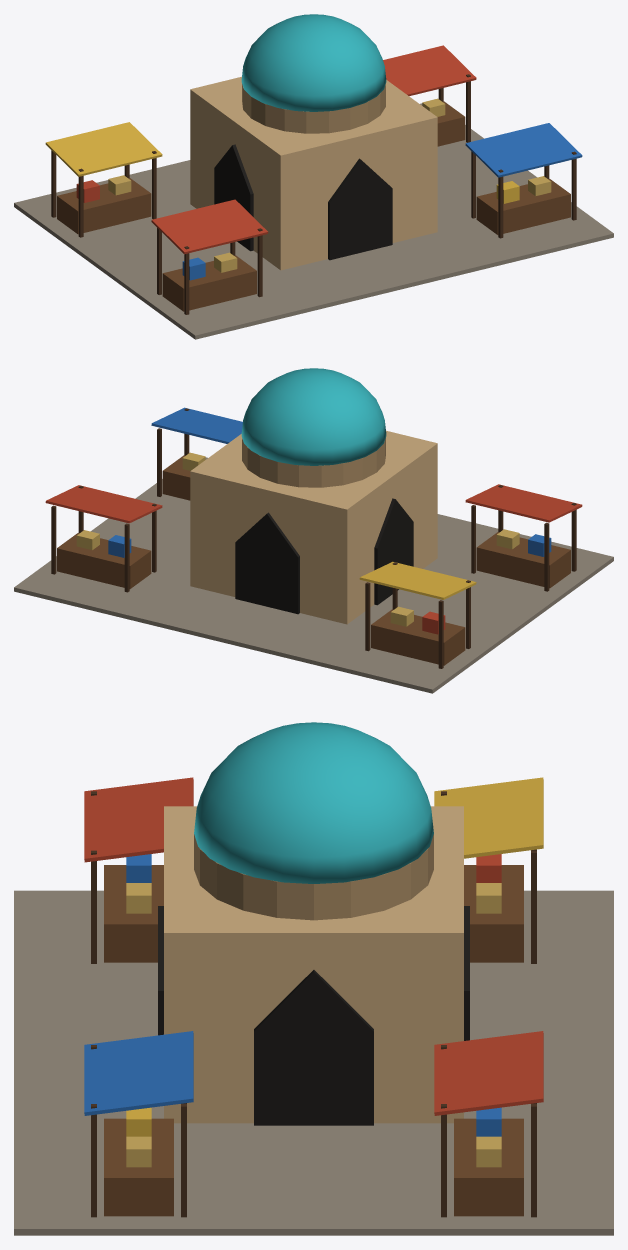
Rendered from market.glb.
The picture shows the model from 3 angles, top to bottom: view 1: azimuth 30°, elevation 25°; view 2: azimuth 150°, elevation 25°; view 3: azimuth 270°, elevation 25°; orthographic projection. The views are drawn at different scales.
Parts seen in each view (by area): view 1: Market; view 2: Market; view 3: Market.
Part boxes in pixels (box(x1,y1,x2,y2)): Market: box(14, 14, 613, 339); Market: box(14, 368, 613, 693); Market: box(14, 722, 613, 1235).
Size of the model in its own units: 16 by 7.31 by 12.
